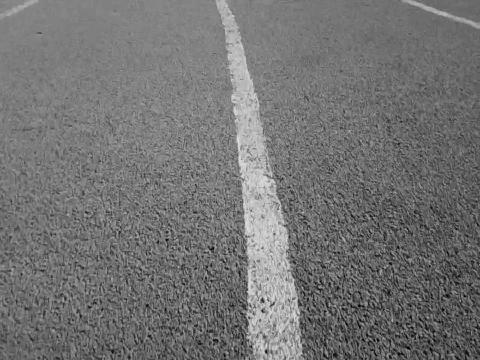Lines: (213, 0, 306, 360)
